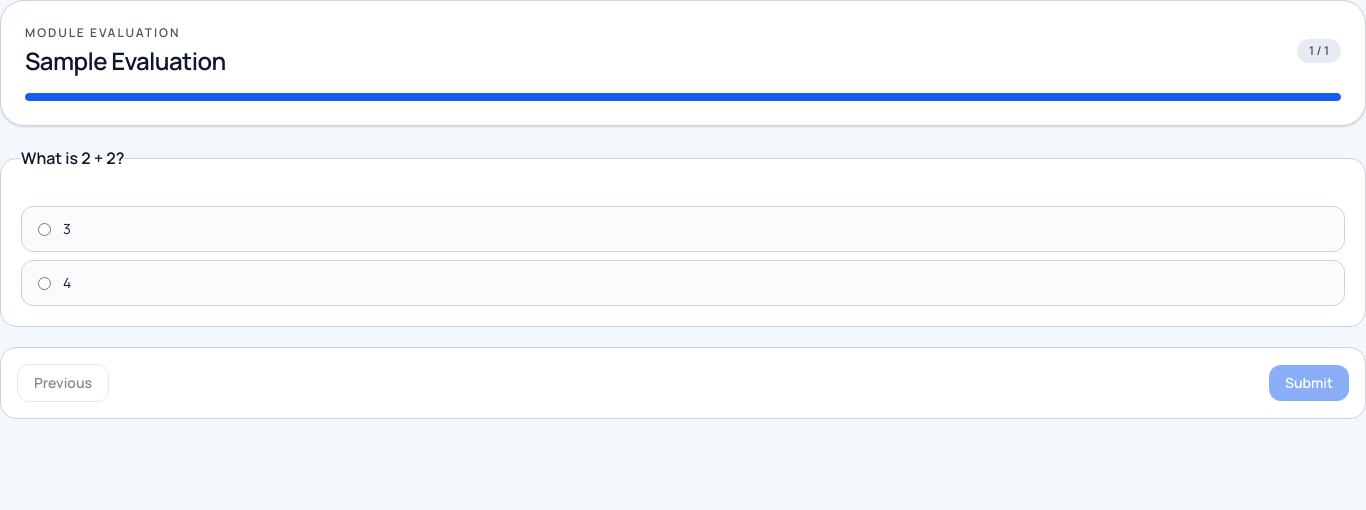
Test: EvaluationRunner › shows an error message when the evaluation submission fails
The width and height of the screenshot is (1366, 510).
Click the radio button labelled "4".
click(44, 283)  # box [38,276,51,290]
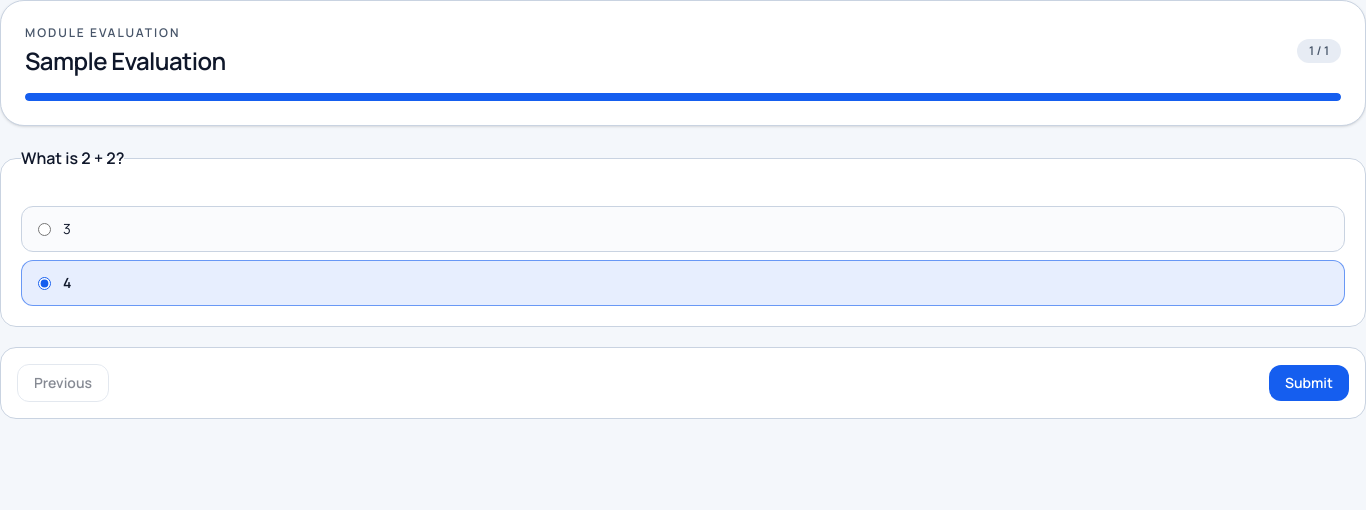
Click the button "Submit".
click(1309, 383)  # box [1269,365,1349,401]
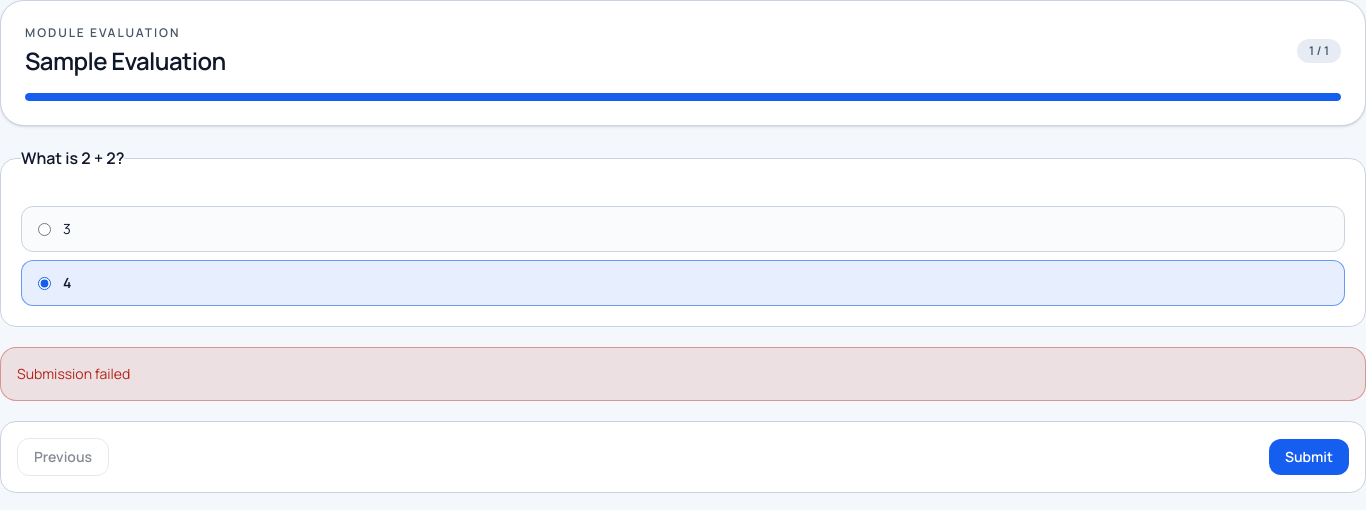
Result: the text "Submission failed" is shown at [0,347,1365,401]
